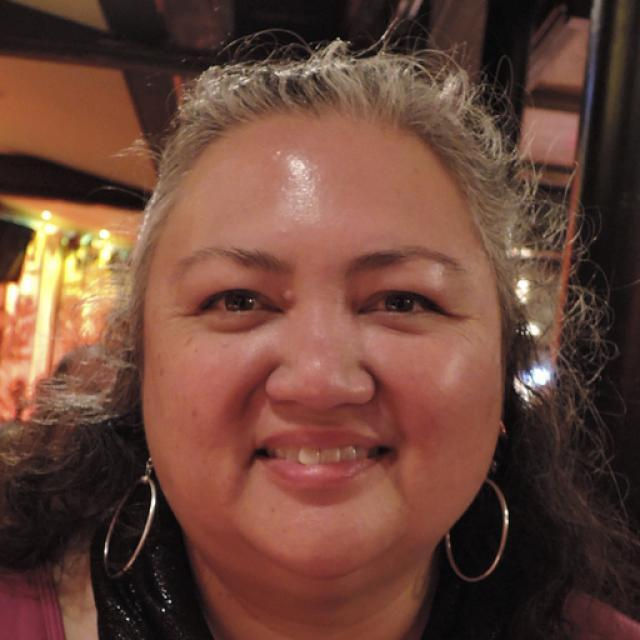content: (140, 102, 511, 578)
